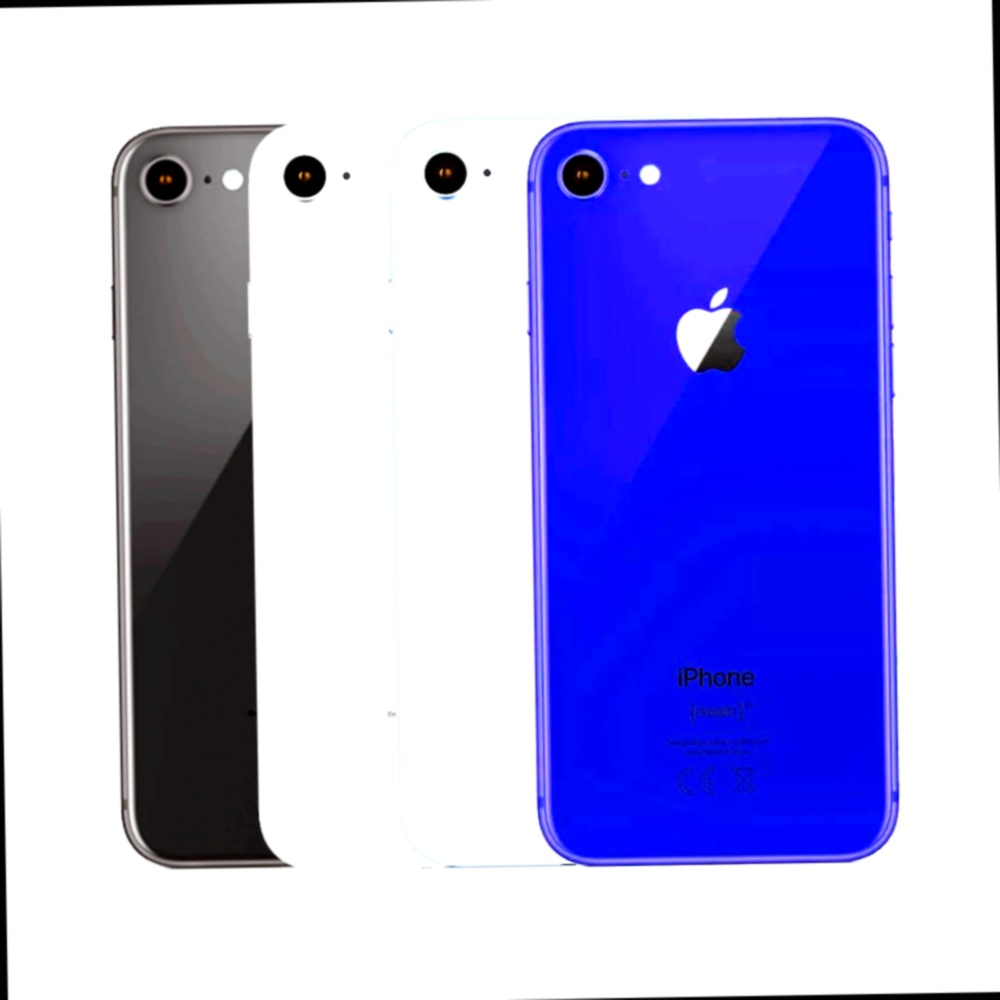iphone: (530, 122, 897, 868)
